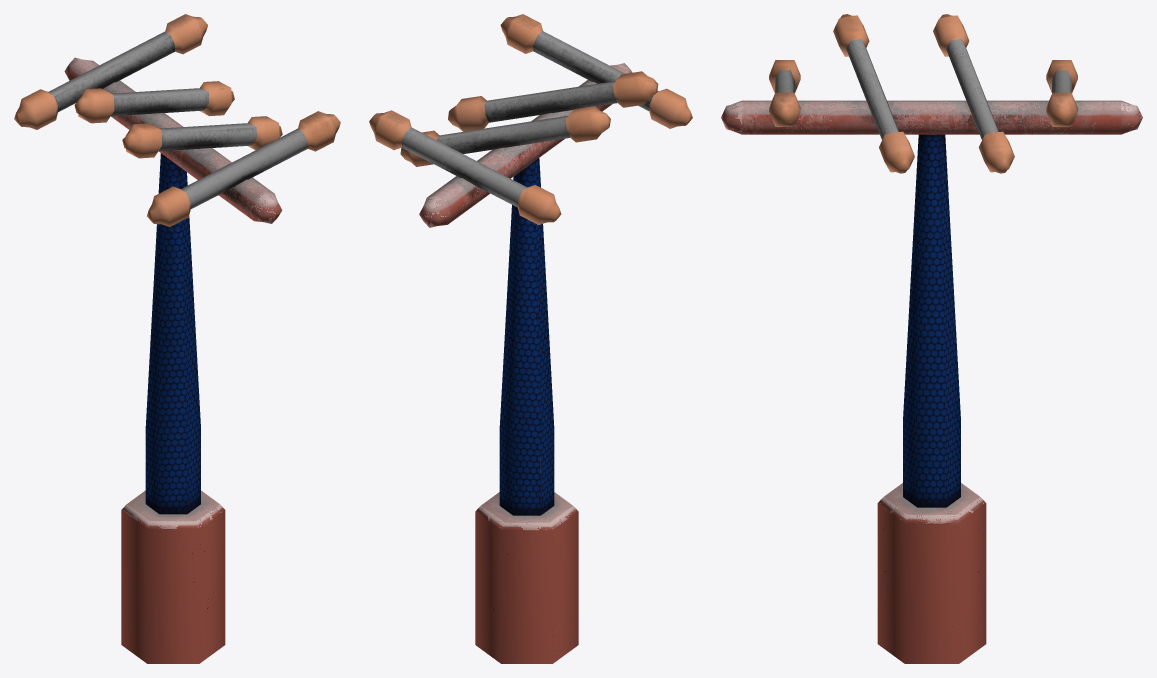
File: SM_Power_Pole_04.fbx
3 views of the same model, side by side, from view 1: azimuth 30°, elevation 25°; view 2: azimuth 150°, elevation 25°; view 3: azimuth 270°, elevation 25° (orthographic). The views are drawn at different scales.
Visible parts, largest first — view 1: SM_Power_Pole_04; view 2: SM_Power_Pole_04; view 3: SM_Power_Pole_04.
Part boxes in pixels (left/top/right/bottom): SM_Power_Pole_04: left=14, top=14, right=340, bottom=663; SM_Power_Pole_04: left=369, top=14, right=692, bottom=663; SM_Power_Pole_04: left=721, top=14, right=1142, bottom=663.
Size of the model in its own units: 50.21 by 93.15 by 144.
Materials: 1 (1 with a texture image).
